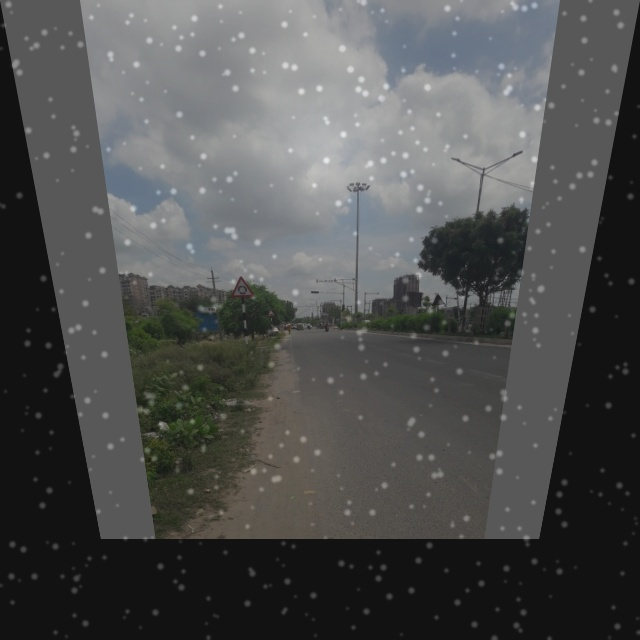Round_About: (227, 273, 258, 300)
